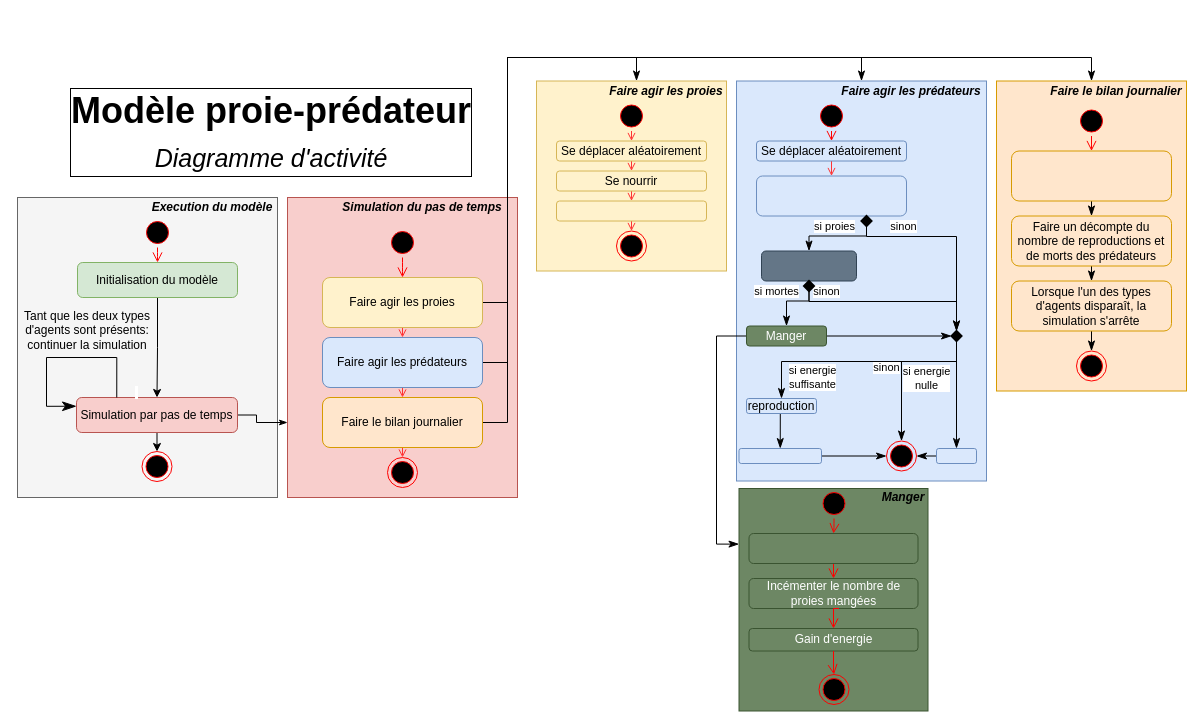
Some shapes in this 1204 by 728 pixel diagram are drawn without their labels. The box of each missing label's shape, as (x1, y1, x2, y2) in pixels:
Choisir au hasard une des proies mortes et visible: (748, 532, 918, 564)
Faire un décompte du nombre de reproductions et de morts des proies: (1010, 150, 1172, 201)
mort: (936, 448, 976, 464)
perte d'energie: (738, 448, 822, 464)
Se reproduire: (556, 200, 706, 221)
Vérifier la présence de proies dans le voisinnage: (756, 175, 906, 216)
Vérifier qu'elles sont mortes: (760, 250, 856, 281)
